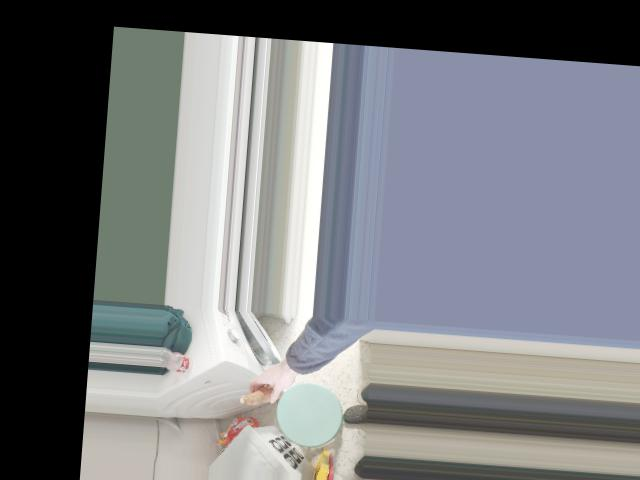sweet_potato: (240, 374, 294, 407)
